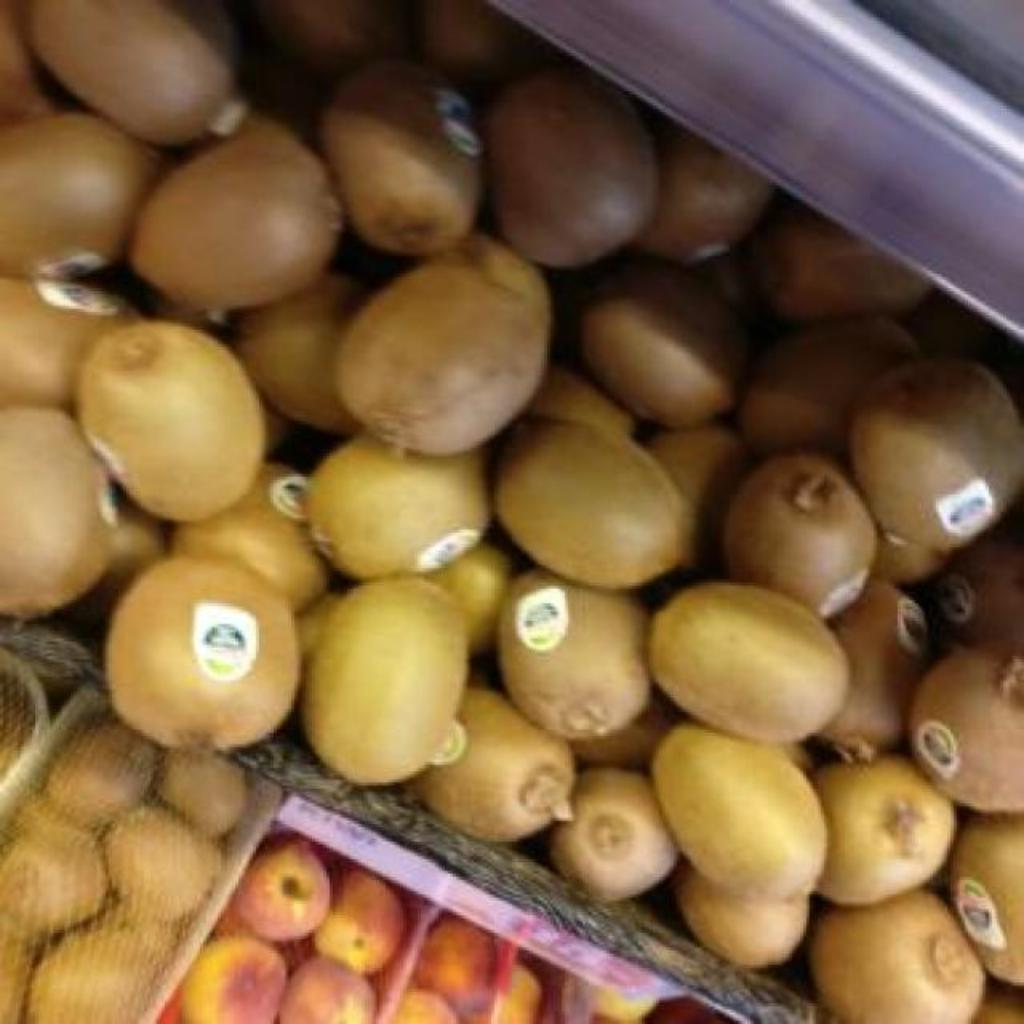kiwi: (336, 236, 546, 455), (130, 114, 342, 309), (850, 364, 1024, 581), (80, 320, 266, 521), (112, 558, 300, 749), (302, 578, 468, 783), (488, 70, 658, 267), (652, 582, 850, 743), (498, 422, 688, 589), (322, 60, 480, 255), (652, 724, 826, 897), (30, 0, 234, 143), (582, 262, 746, 425), (306, 436, 488, 579), (414, 688, 574, 841), (0, 114, 150, 275), (726, 456, 876, 617), (502, 572, 646, 739), (742, 316, 916, 452), (172, 464, 328, 611), (810, 894, 984, 1024), (0, 406, 108, 613), (234, 272, 366, 435), (816, 758, 954, 905), (754, 206, 930, 319), (634, 124, 774, 263), (822, 580, 928, 757), (0, 278, 136, 407), (914, 654, 1024, 811), (550, 768, 678, 901), (930, 500, 1024, 653), (674, 864, 808, 967), (648, 424, 748, 561), (952, 815, 1024, 983), (254, 0, 408, 75), (423, 0, 544, 83), (528, 364, 632, 437), (464, 696, 484, 705)
